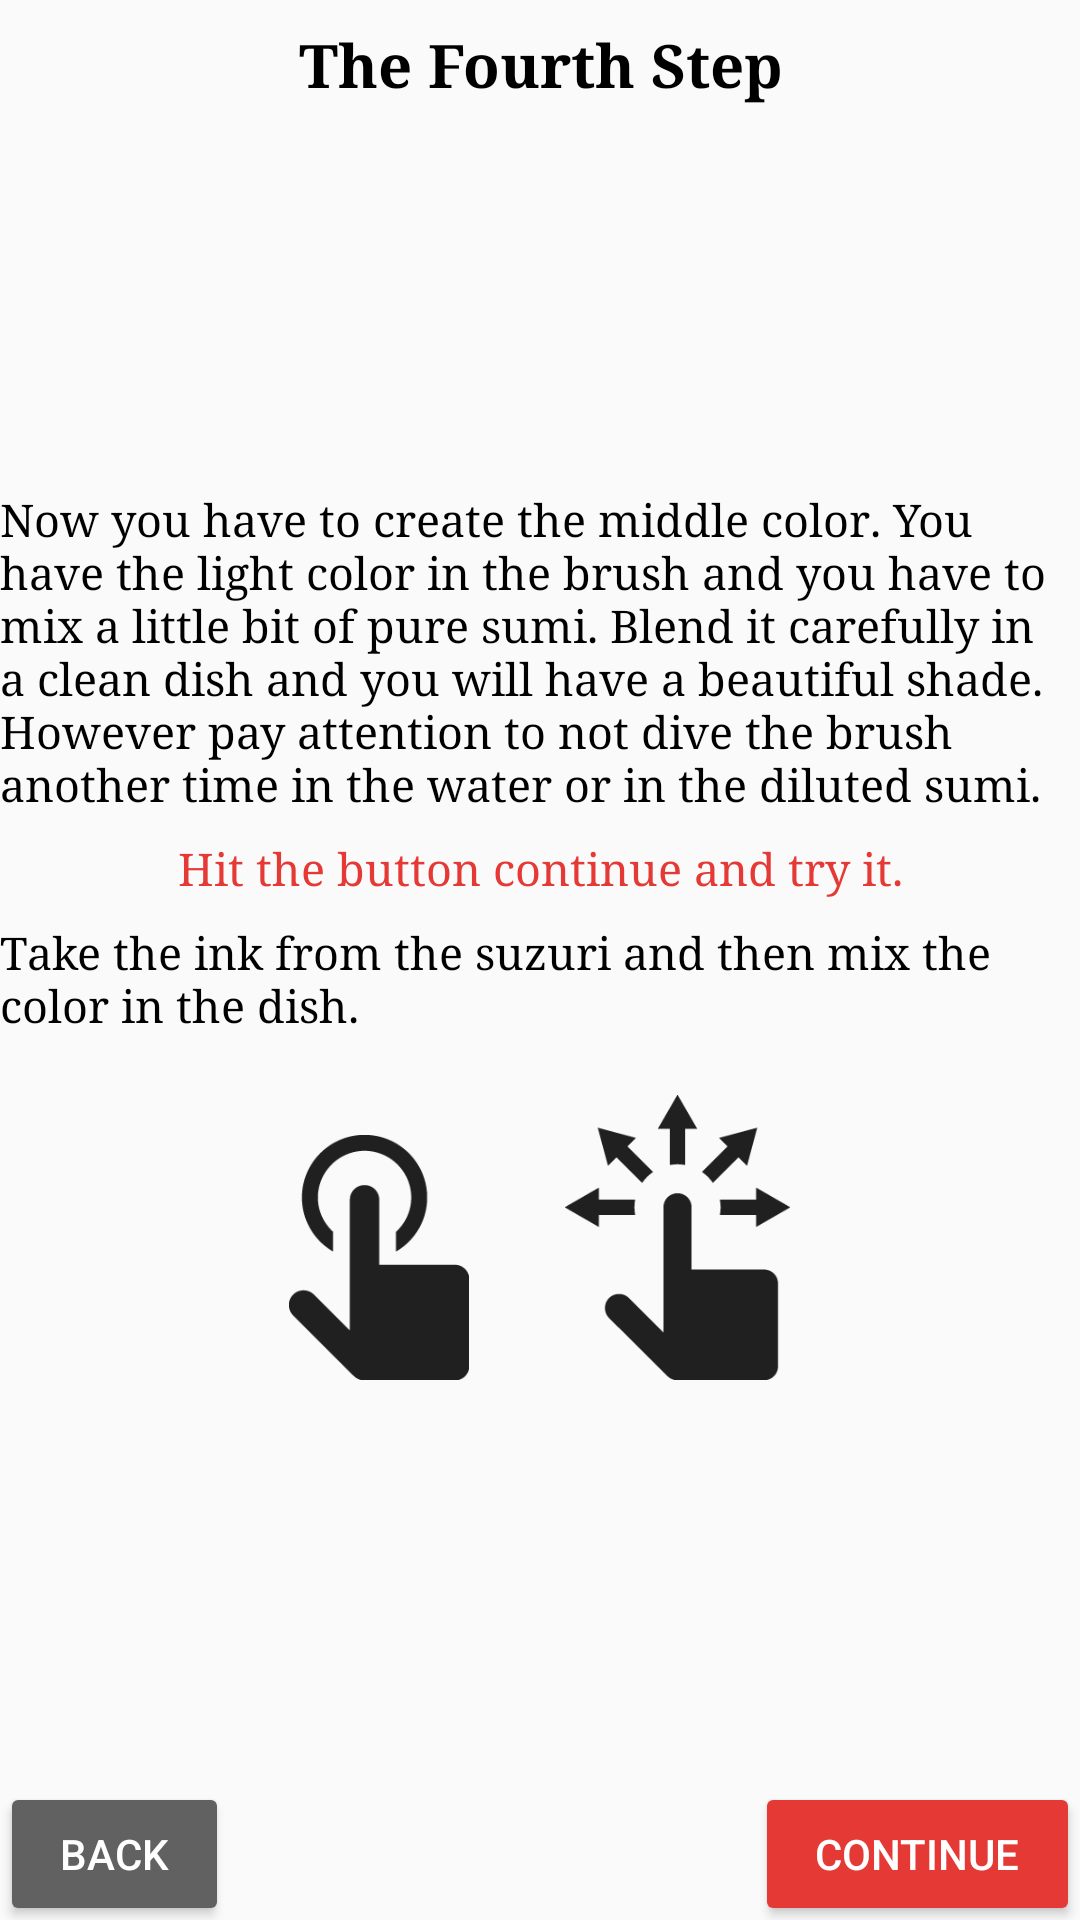

Named icons in this screenshot (1080×1920) and their centers, (x=x, y=y):
tap: (x=379, y=1257)
